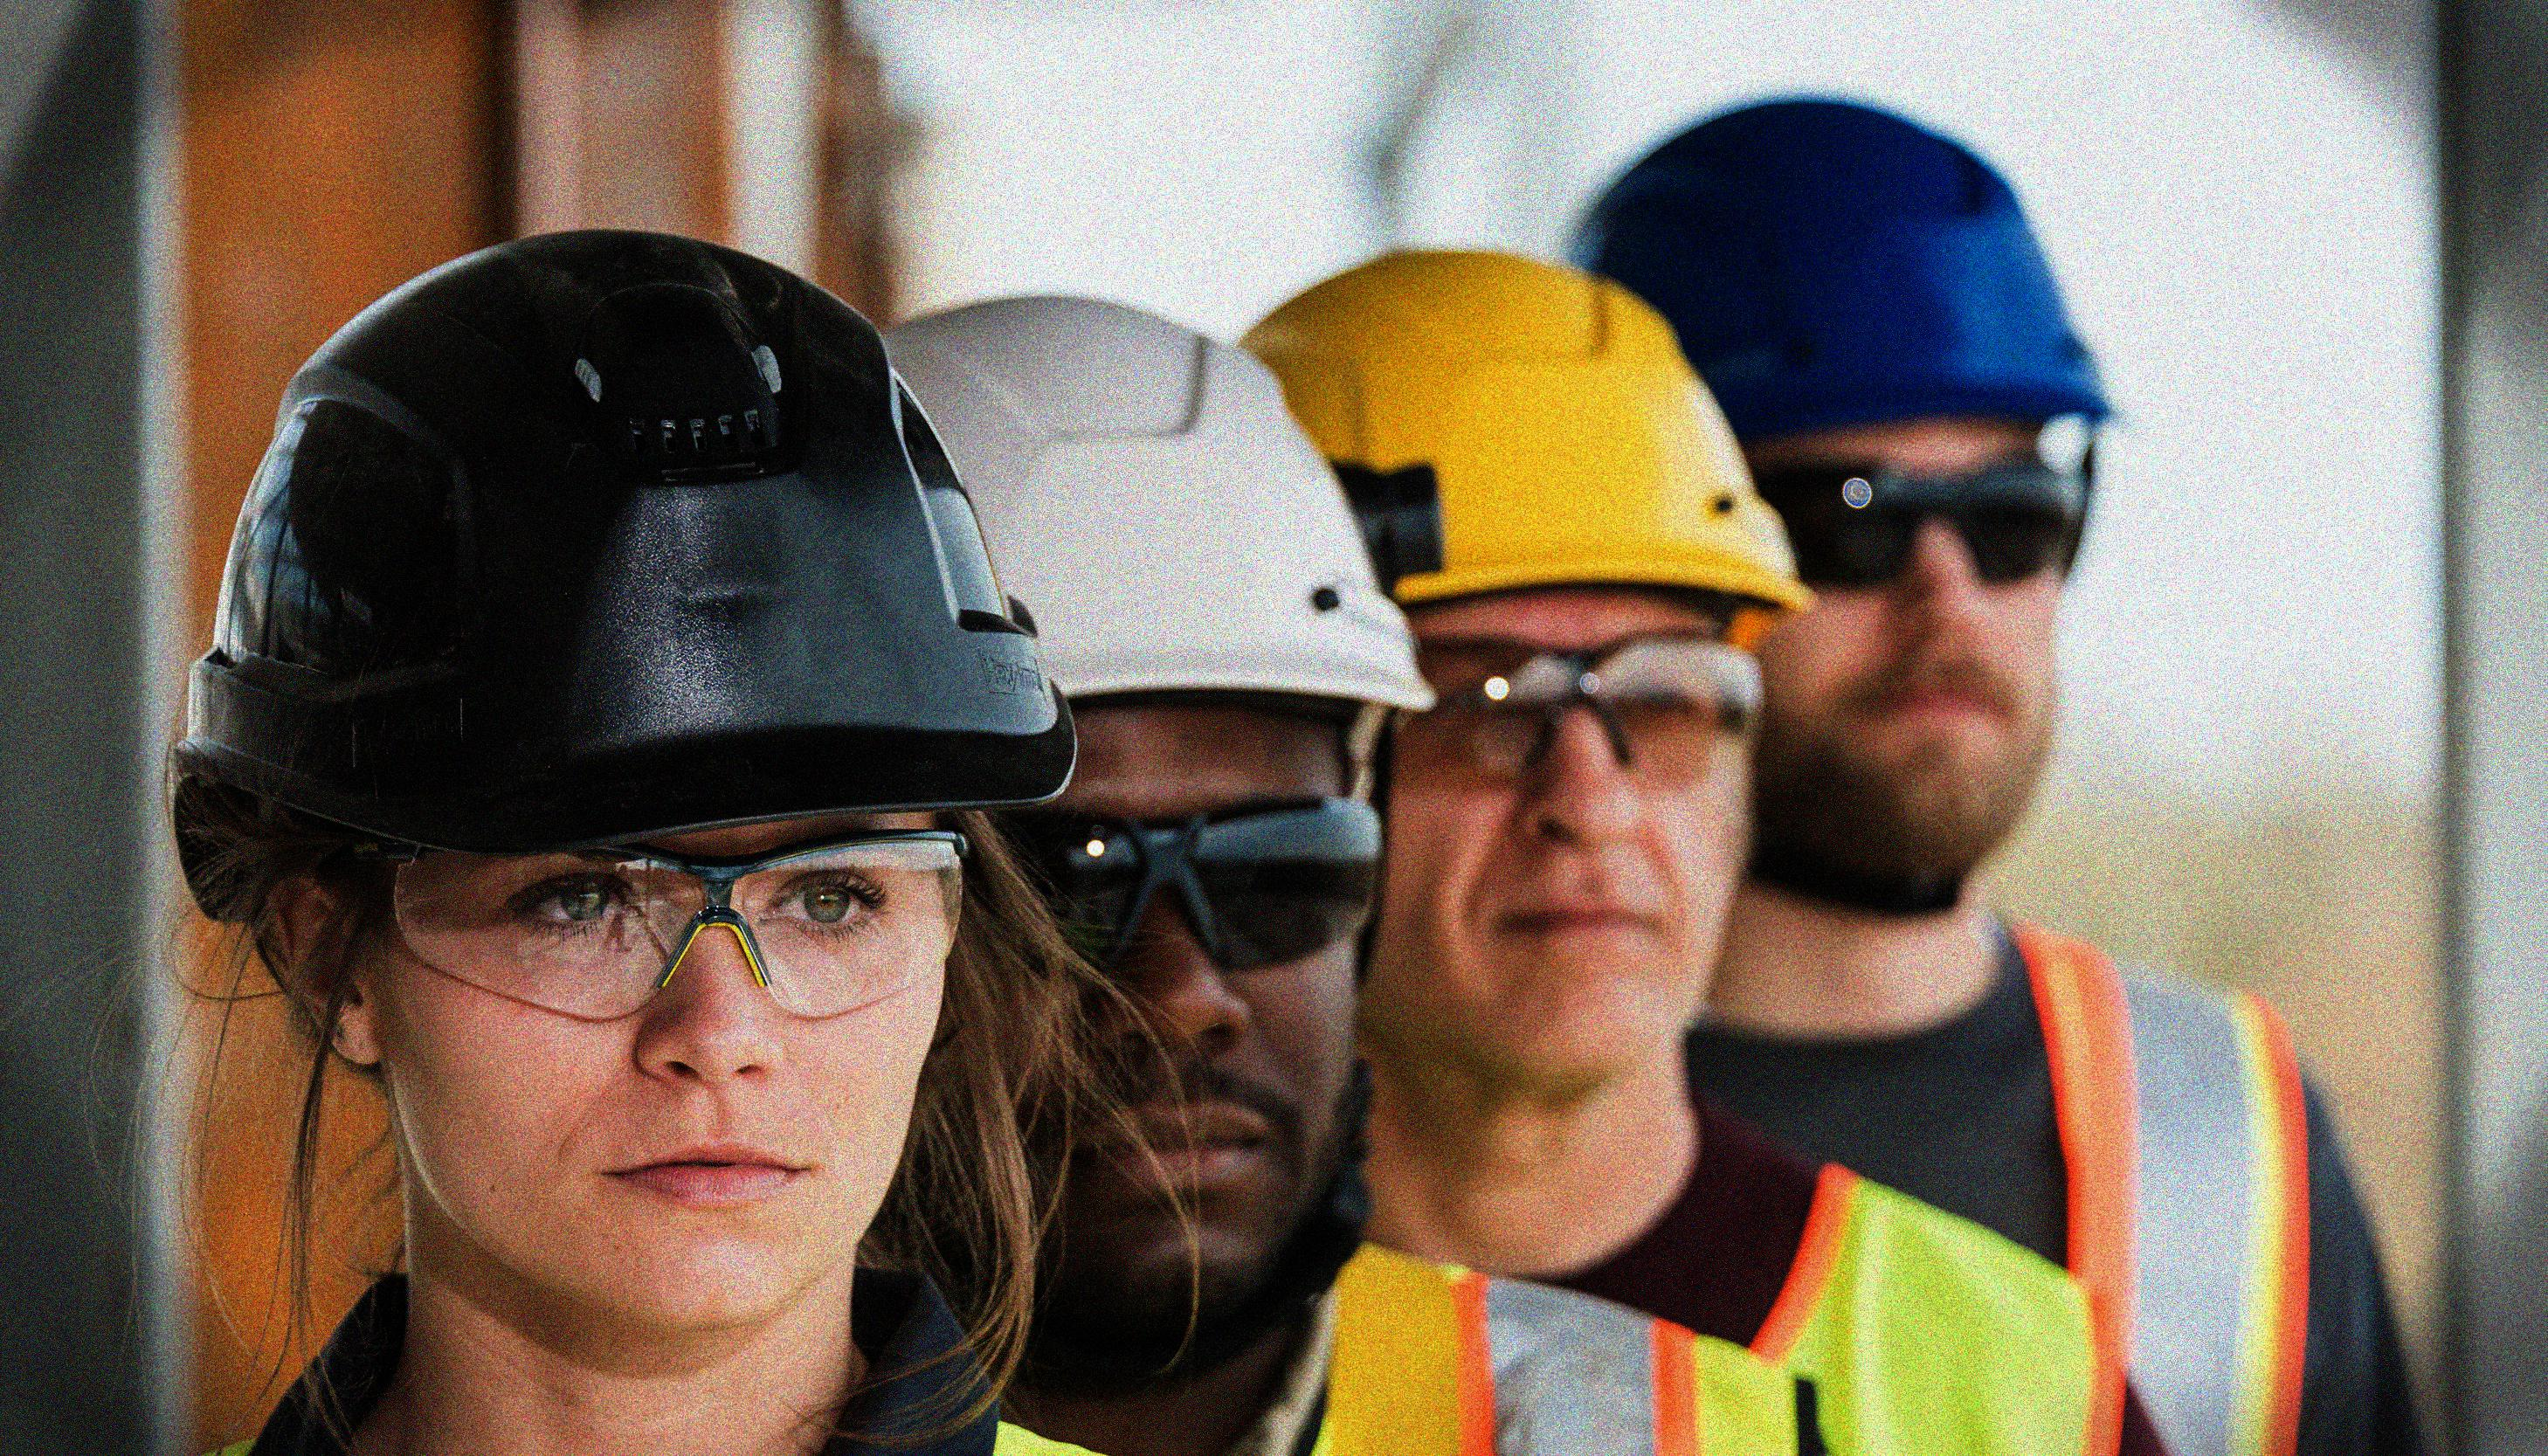helmet: (189, 217, 1081, 1330), (865, 290, 1432, 1354), (1220, 252, 1815, 1080), (1549, 79, 2135, 898)
